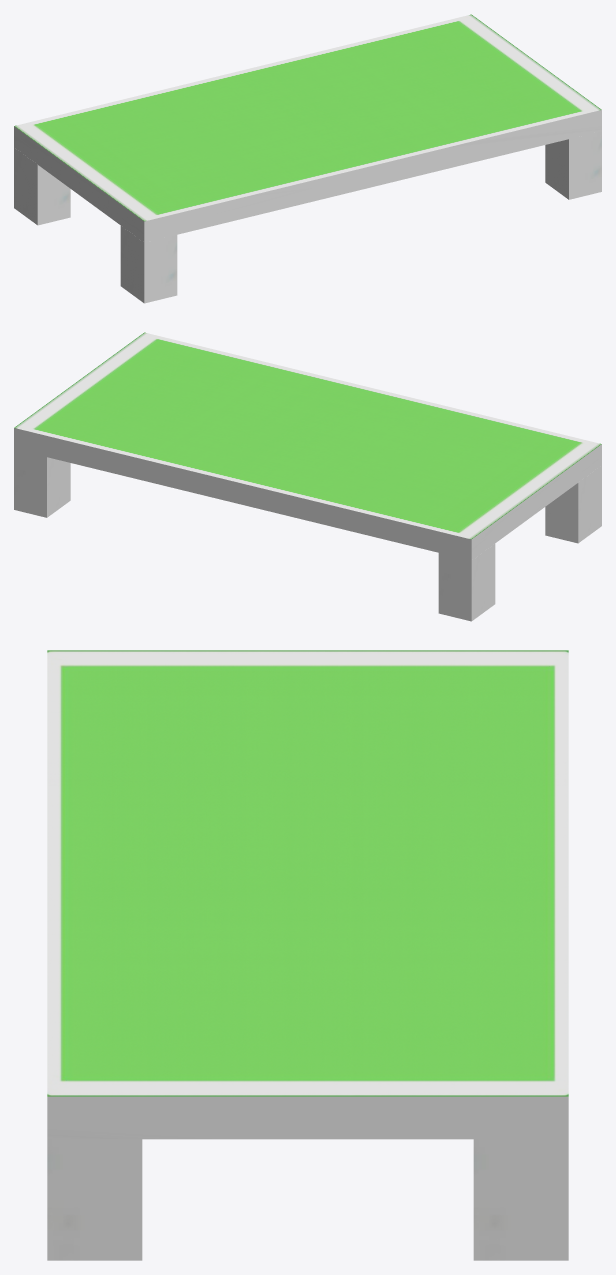
The model's file is Mesa.obj.
The picture shows the model from 3 angles, top to bottom: view 1: azimuth 30°, elevation 25°; view 2: azimuth 150°, elevation 25°; view 3: azimuth 270°, elevation 25°; orthographic projection. The views are drawn at different scales.
Parts seen in each view (by area): view 1: oak_lab:oak_lab8:pCube8; view 2: oak_lab:oak_lab8:pCube8; view 3: oak_lab:oak_lab8:pCube8.
Boxes of the visible parts, x1=… form: oak_lab:oak_lab8:pCube8: x1=14, y1=14, x2=601, y2=303; oak_lab:oak_lab8:pCube8: x1=14, y1=332, x2=601, y2=621; oak_lab:oak_lab8:pCube8: x1=47, y1=650, x2=568, y2=1260.
Bounding box in the file's own units: 6.01 × 1.03 × 2.97.
3 materials, 3 textured.
